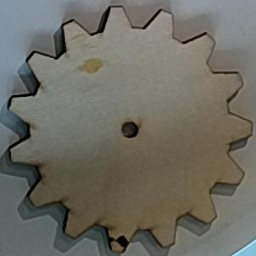Points: (107, 233, 130, 249)
